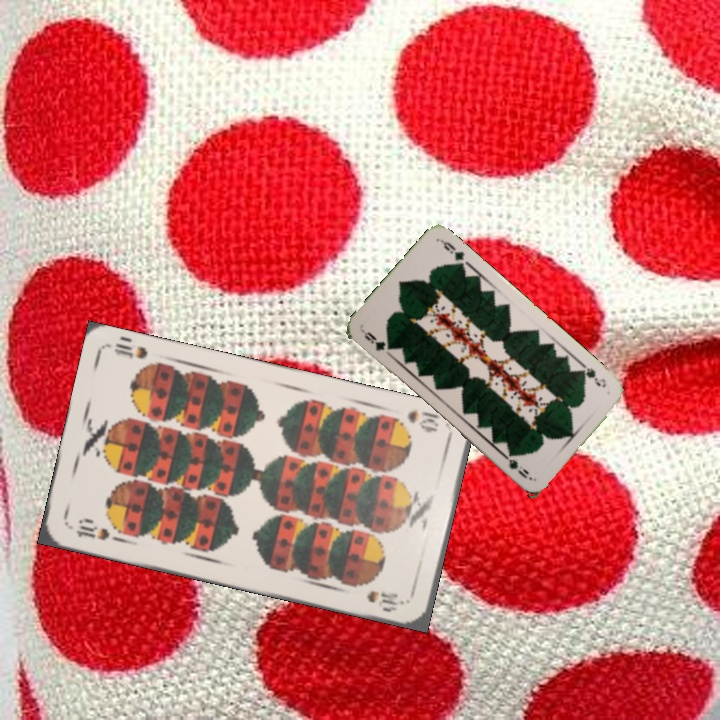G9: (575, 360, 609, 390), (360, 328, 395, 353)
S10: (403, 406, 441, 435), (72, 516, 112, 543)
